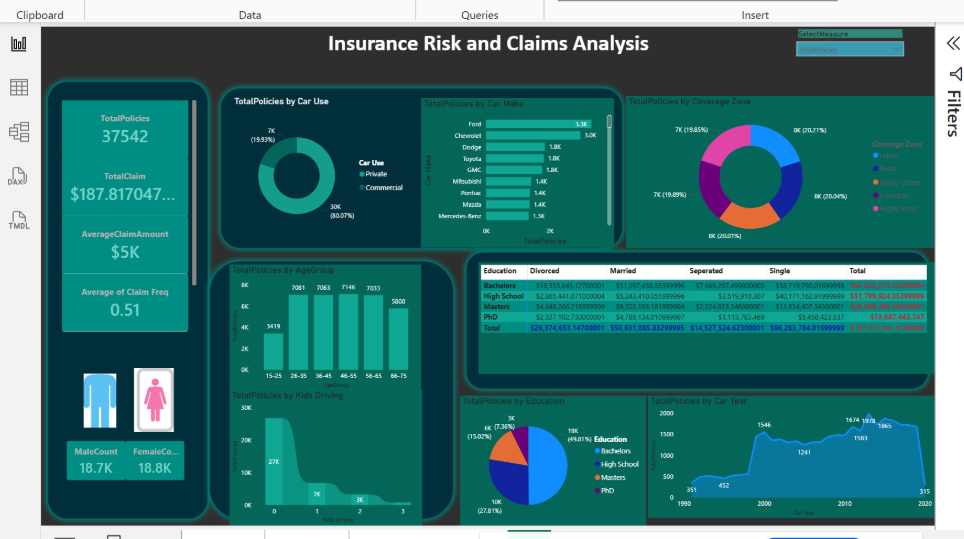

What the dashboard file says about the page in this screenshot:
{"tool":"powerbi","page":{"name":"Page 1","canvas":[1700,950],"ordinal":0},"visuals":[{"type":"textbox","box":[398.2,0,905.7,92.8],"z":0},{"type":"shape","box":[0,92.7,329.7,857.3],"z":1000},{"type":"cardVisual","fields":{"Data":["insu_data_car.TotalPolicies","insu_data_car.TotalClaim","insu_data_car.AverageClaimAmount","Avg(insu_data_car.Claim Freq)","Sum(insu_data_car.Claim Amount)"]},"box":[30.9,131.9,270,459.5],"z":2000},{"type":"cardVisual","fields":{"Data":["insu_data_car.MaleCount","insu_data_car.FemaleCount"]},"box":[30.9,770.7,259.7,109.2],"z":3000},{"type":"image","box":[138.1,649.1,152.5,121.6],"z":4000},{"type":"image","box":[30.9,659.4,160.7,103],"z":5000},{"type":"slicer","fields":{"Values":["SelectMeasure.SelectMeasure"]},"box":[1427.7,0,224.9,136.2],"z":6000},{"type":"shape","box":[329.7,105.1,789.3,329.7],"z":7000},{"type":"donutChart","fields":{"Y":["insu_data_car.TotalPolicies"],"Category":["insu_data_car.Car Use"]},"box":[362.7,131.9,340,284.4],"z":8000},{"type":"clusteredBarChart","fields":{"Y":["insu_data_car.TotalPolicies"],"Category":["insu_data_car.Car Make"]},"box":[724.2,136.2,367.2,284.7],"z":9000},{"type":"donutChart","fields":{"Y":["insu_data_car.TotalPolicies"],"Category":["insu_data_car.Coverage Zone"]},"box":[1114.1,132,585.9,288.8],"z":10000},{"type":"shape","box":[307.4,433.3,489,515.8],"z":11000},{"type":"clusteredColumnChart","fields":{"Y":["insu_data_car.TotalPolicies"],"Category":["insu_data_car.AgeGroup"]},"box":[359,451.8,365.2,239.3],"z":12000},{"type":"ribbonChart","fields":{"Y":["insu_data_car.TotalPolicies"],"Category":["insu_data_car.Kids Driving"]},"box":[359,691.1,367.2,257.9],"z":13000},{"type":"shape","box":[796.4,416.7,903.6,284.7],"z":14000},{"type":"areaChart","fields":{"Y":["insu_data_car.TotalPolicies"],"Category":["insu_data_car.Car Year"]},"box":[1155.3,701.5,544.7,233.1],"z":15000},{"type":"pieChart","fields":{"Y":["insu_data_car.TotalPolicies"],"Category":["insu_data_car.Education"]},"box":[796.4,701.5,354.9,247.6],"z":16000},{"type":"pivotTable","fields":{"Rows":["insu_data_car.Education"],"Columns":["insu_data_car.Marital Status"],"Values":["insu_data_car.TotalClaim"]},"box":[831.4,447.7,868.6,212.5],"z":17000}]}

Visuals, with their boxes on the page's 1700x950 design canvas (x1, y1, x2, y2). These are canvas units, not pixel positions in the 964x539 screenshot, which may show the page scaled, cropped or inside an application window:
textbox: [left=398, top=0, right=1304, bottom=93]
shape: [left=0, top=93, right=330, bottom=950]
cardVisual - insu_data_car.TotalPolicies x insu_data_car.TotalClaim: [left=31, top=132, right=301, bottom=591]
cardVisual - insu_data_car.MaleCount x insu_data_car.FemaleCount: [left=31, top=771, right=291, bottom=880]
image: [left=138, top=649, right=291, bottom=771]
image: [left=31, top=659, right=192, bottom=762]
slicer - SelectMeasure.SelectMeasure: [left=1428, top=0, right=1653, bottom=136]
shape: [left=330, top=105, right=1119, bottom=435]
donutChart - insu_data_car.TotalPolicies x insu_data_car.Car Use: [left=363, top=132, right=703, bottom=416]
clusteredBarChart - insu_data_car.TotalPolicies x insu_data_car.Car Make: [left=724, top=136, right=1091, bottom=421]
donutChart - insu_data_car.TotalPolicies x insu_data_car.Coverage Zone: [left=1114, top=132, right=1700, bottom=421]
shape: [left=307, top=433, right=796, bottom=949]
clusteredColumnChart - insu_data_car.TotalPolicies x insu_data_car.AgeGroup: [left=359, top=452, right=724, bottom=691]
ribbonChart - insu_data_car.TotalPolicies x insu_data_car.Kids Driving: [left=359, top=691, right=726, bottom=949]
shape: [left=796, top=417, right=1700, bottom=701]
areaChart - insu_data_car.TotalPolicies x insu_data_car.Car Year: [left=1155, top=702, right=1700, bottom=935]
pieChart - insu_data_car.TotalPolicies x insu_data_car.Education: [left=796, top=702, right=1151, bottom=949]
pivotTable - insu_data_car.Education x insu_data_car.Marital Status: [left=831, top=448, right=1700, bottom=660]
